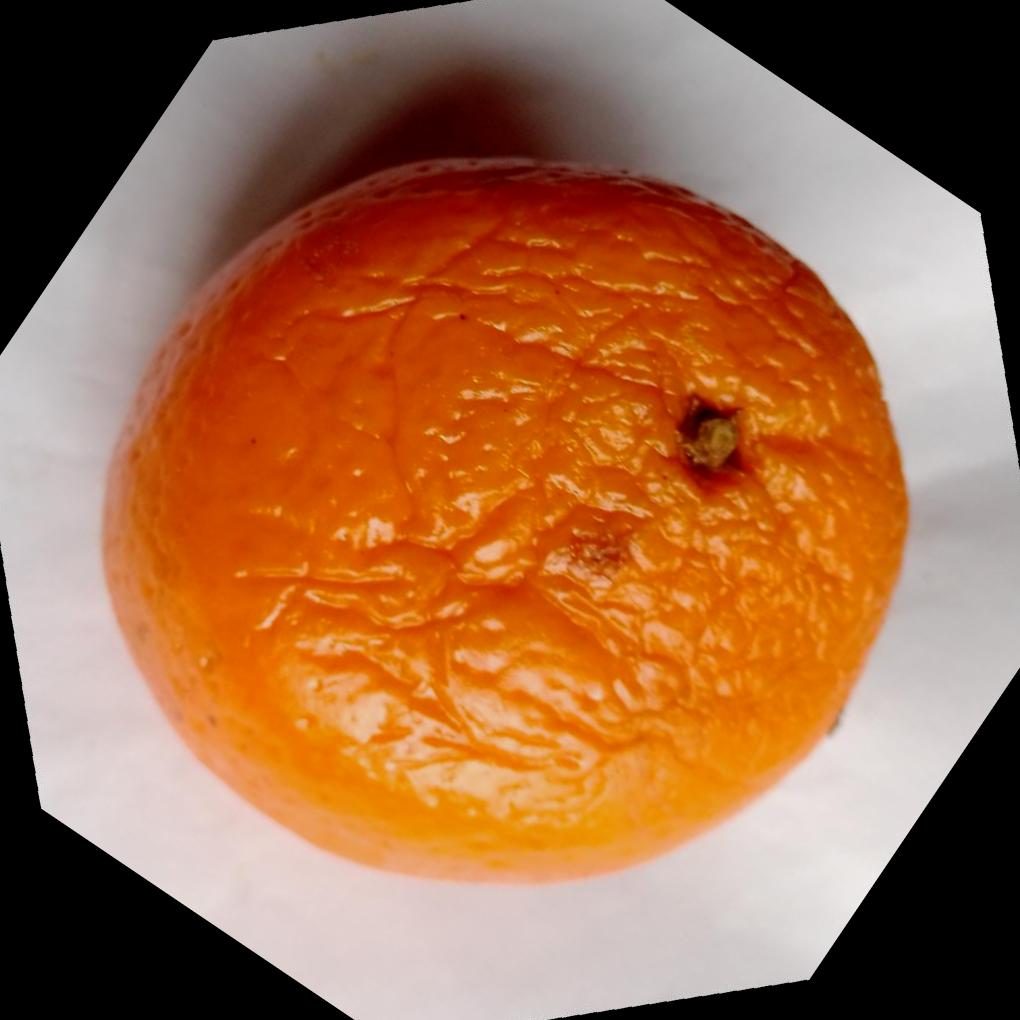FreshOrange: (98, 156, 915, 899)
